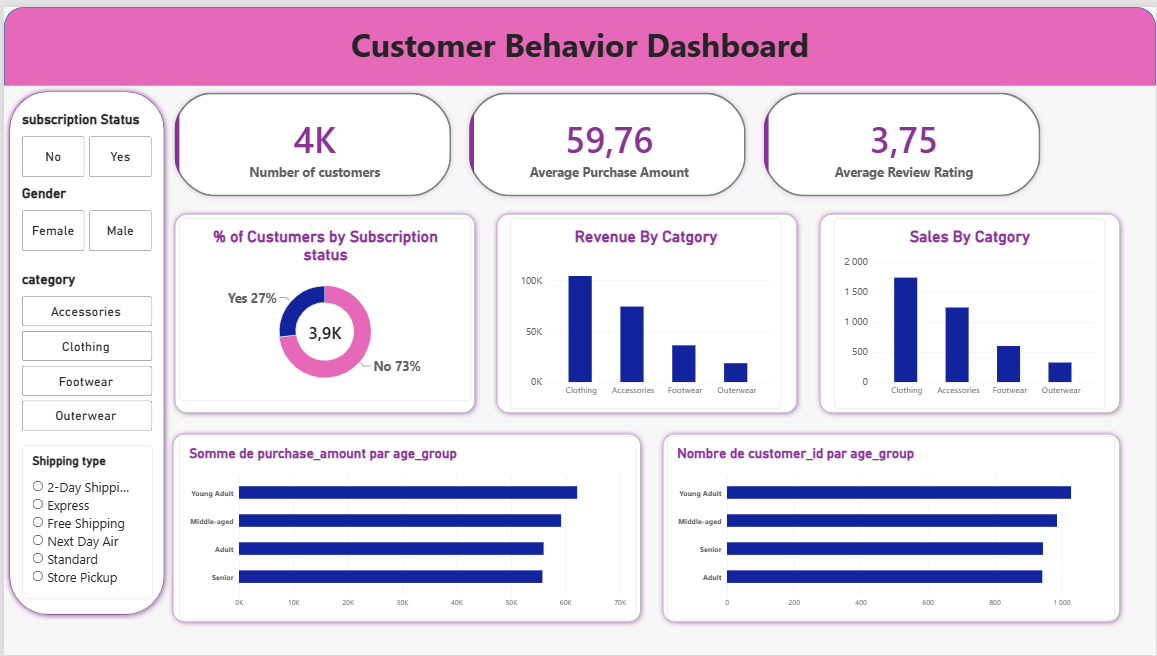

The dashboard page shown, as its layout file describes it:
{"tool":"powerbi","page":{"name":"Page 1","canvas":[1920,1080],"ordinal":0},"visuals":[{"type":"cardVisual","fields":{"Data":["public customer.Number of customers","public customer.Average Purchase Amount","public customer.Average Review Rating"]},"box":[273.3,131.7,1465,195],"z":0},{"type":"shape","box":[0,0,1920,131.4],"z":1},{"type":"textbox","box":[0,24.3,1920,118.6],"z":2},{"type":"shape","box":[276.7,336.7,516.7,348.3],"z":3},{"type":"donutChart","title":"% of Custumers by Subscription status","fields":{"Category":["public customer.subscription_status"],"Y":["Count(public customer.customer_id)"]},"box":[291.7,351.7,486.7,305],"z":4},{"type":"shape","box":[814,337.1,516.7,348.3],"z":6},{"type":"shape","box":[1351.4,337.1,516.7,348.3],"z":7},{"type":"clusteredColumnChart","title":"Revenue By Catgory","fields":{"Category":["public customer.category"],"Y":["Sum(public customer.purchase_amount)"]},"box":[843,350.9,451.6,318.4],"z":8},{"type":"clusteredColumnChart","title":"Sales By Catgory","fields":{"Category":["public customer.category"],"Y":["CountNonNull(public customer.customer_id)"]},"box":[1384,352.5,451.6,318.4],"z":9},{"type":"shape","box":[0,131.6,276.1,890.2],"z":10},{"type":"advancedSlicerVisual","fields":{"Values":["public customer.subscription_status"]},"box":[29.2,173.8,217.7,110.5],"z":11},{"type":"advancedSlicerVisual","fields":{"Values":["public customer.gender"]},"box":[29.2,297.3,217.7,110.5],"z":12},{"type":"advancedSlicerVisual","fields":{"Values":["public customer.category"]},"box":[29.2,420.7,217.7,308.6],"z":13},{"type":"listSlicer","title":"Shipping type","fields":{"Values":["public customer.shipping_type"]},"box":[29.2,729.3,217.7,256.6],"z":14},{"type":"shape","box":[272.9,703.4,795.9,329.7],"z":16},{"type":"clusteredBarChart","fields":{"Category":["public customer.age_group"],"Y":["Sum(public customer.purchase_amount)"]},"box":[292.4,714.7,761.8,307],"z":17},{"type":"shape","box":[1089.9,703.4,778.1,329.7],"z":18},{"type":"clusteredBarChart","fields":{"Category":["public customer.age_group"],"Y":["CountNonNull(public customer.customer_id)"]},"box":[1104.6,714.7,745.6,307],"z":19}]}

Visuals, with their boxes in screenshot pixels (x1, y1, x2, y2), scaled from the page's 1920x1080 canvas onto the 1157x656 screenshot:
cardVisual - public customer.Number of customers x public customer.Average Purchase Amount: [165, 80, 1048, 198]
shape: [0, 0, 1156, 80]
textbox: [0, 15, 1156, 87]
shape: [167, 205, 478, 416]
"% of Custumers by Subscription status" donutChart: [176, 214, 469, 399]
shape: [491, 205, 802, 416]
shape: [814, 205, 1126, 416]
"Revenue By Catgory" clusteredColumnChart: [508, 213, 780, 407]
"Sales By Catgory" clusteredColumnChart: [834, 214, 1106, 408]
shape: [0, 80, 166, 621]
advancedSlicerVisual - public customer.subscription_status: [18, 106, 149, 173]
advancedSlicerVisual - public customer.gender: [18, 181, 149, 248]
advancedSlicerVisual - public customer.category: [18, 256, 149, 443]
"Shipping type" listSlicer: [18, 443, 149, 599]
shape: [164, 427, 644, 628]
clusteredBarChart - public customer.age_group x Sum(public customer.purchase_amount): [176, 434, 635, 621]
shape: [657, 427, 1126, 628]
clusteredBarChart - public customer.age_group x CountNonNull(public customer.customer_id): [666, 434, 1115, 621]
